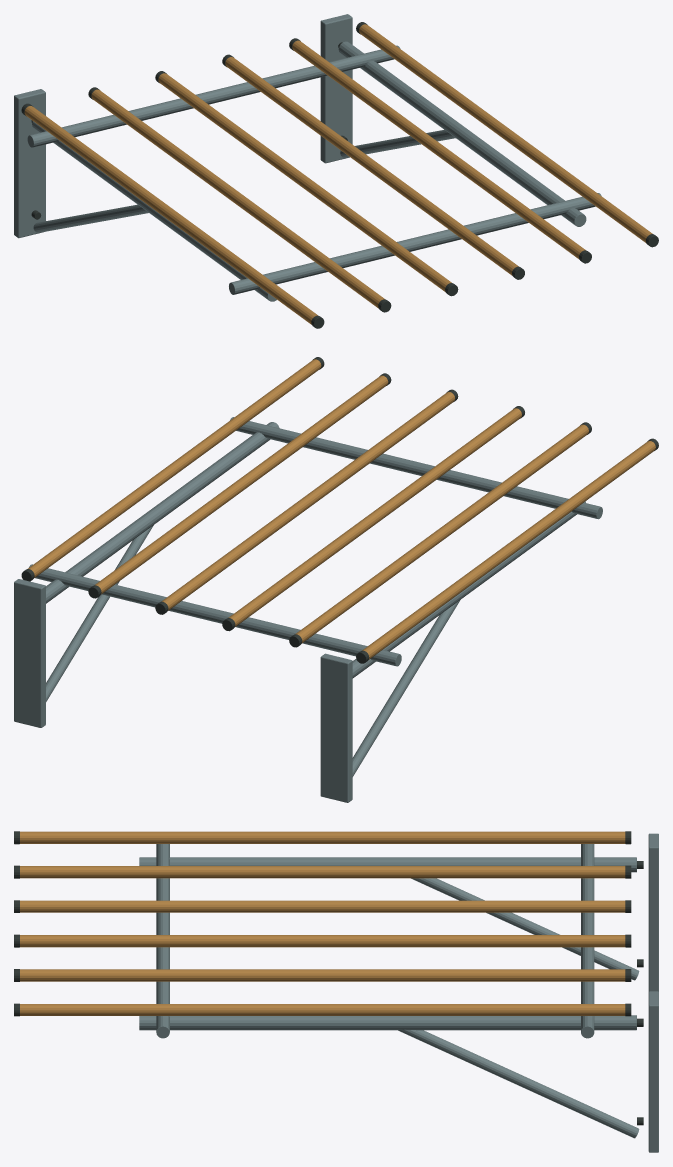
The picture shows the model from 3 angles, top to bottom: view 1: azimuth 30°, elevation 25°; view 2: azimuth 150°, elevation 25°; view 3: azimuth 270°, elevation 25°; orthographic projection. The views are drawn at different scales.
Visible parts, largest first — view 1: DRYING_Pole_01, DRYING_Pole_04, DRYING_Pole_00, DRYING_Pole_02, DRYING_Pole_03, DRYING_Pole_05, SUPPORT_Arm.001, SUPPORT_Crossbar, SUPPORT_Crossbar.001, WALL_MountPlate, WALL_MountPlate.001, SUPPORT_Arm (+2 smaller); view 2: WALL_MountPlate, WALL_MountPlate.001, DRYING_Pole_04, DRYING_Pole_01, DRYING_Pole_02, DRYING_Pole_05, DRYING_Pole_00, DRYING_Pole_03, SUPPORT_Crossbar, SUPPORT_Crossbar.001, SUPPORT_Arm.001, SUPPORT_Brace (+2 smaller); view 3: DRYING_Pole_04, DRYING_Pole_00, DRYING_Pole_01, DRYING_Pole_02, DRYING_Pole_03, DRYING_Pole_05, SUPPORT_Arm.001, SUPPORT_Arm, SUPPORT_Brace.001, SUPPORT_Crossbar.001, SUPPORT_Crossbar, SUPPORT_Brace (+2 smaller).
Part boxes in pixels (box(x1,y1,x2,y2)): DRYING_Pole_01: box(91, 89, 384, 308); DRYING_Pole_04: box(292, 40, 585, 259); DRYING_Pole_00: box(24, 106, 317, 324); DRYING_Pole_02: box(158, 73, 451, 292); DRYING_Pole_03: box(225, 57, 518, 275); DRYING_Pole_05: box(359, 24, 652, 243); SUPPORT_Arm.001: box(338, 41, 586, 226); SUPPORT_Crossbar: box(27, 45, 400, 147); SUPPORT_Crossbar.001: box(229, 193, 601, 294); WALL_MountPlate: box(14, 89, 45, 238); WALL_MountPlate.001: box(320, 14, 352, 163); SUPPORT_Arm: box(32, 121, 276, 301); WALL_MountPlate: box(320, 653, 352, 802); WALL_MountPlate.001: box(14, 579, 45, 727); DRYING_Pole_04: box(95, 375, 388, 594); DRYING_Pole_01: box(295, 424, 588, 643); DRYING_Pole_02: box(228, 408, 521, 626); DRYING_Pole_05: box(28, 359, 321, 577); DRYING_Pole_00: box(362, 441, 655, 659); DRYING_Pole_03: box(161, 392, 454, 610); SUPPORT_Crossbar: box(29, 564, 401, 666); SUPPORT_Crossbar.001: box(230, 417, 602, 519); SUPPORT_Arm.001: box(46, 422, 279, 603); SUPPORT_Brace: box(352, 600, 460, 776); DRYING_Pole_04: box(20, 969, 625, 981); DRYING_Pole_00: box(20, 831, 625, 843); DRYING_Pole_01: box(20, 866, 625, 878); DRYING_Pole_02: box(20, 900, 625, 912); DRYING_Pole_03: box(20, 935, 625, 947); DRYING_Pole_05: box(20, 1004, 625, 1015); SUPPORT_Arm.001: box(139, 1015, 636, 1030); SUPPORT_Arm: box(139, 857, 636, 872); SUPPORT_Brace.001: box(398, 1029, 639, 1138); SUPPORT_Crossbar.001: box(156, 844, 169, 1038); SUPPORT_Crossbar: box(581, 844, 594, 1038); SUPPORT_Brace: box(411, 878, 639, 980).
Bounding box in the file's own units: 1.32 × 0.484 × 1.9.
